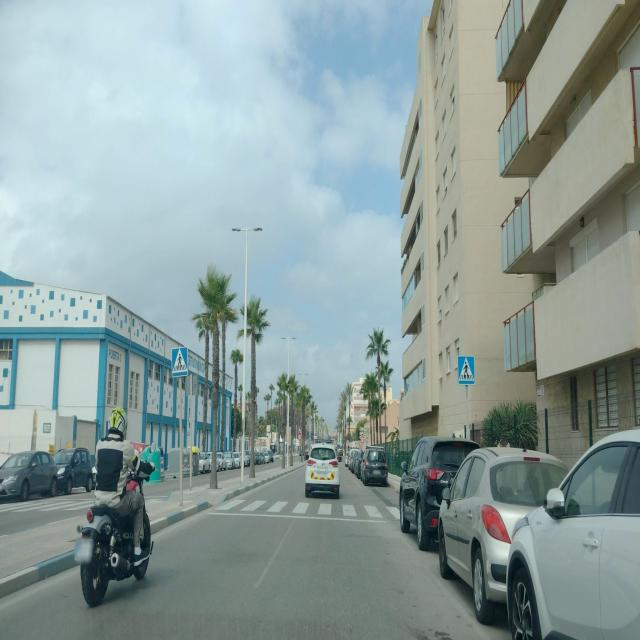bike: (78, 452, 154, 609)
car: (505, 423, 640, 638), (437, 444, 570, 623), (398, 435, 479, 551), (0, 449, 57, 502), (52, 446, 96, 495), (304, 442, 340, 498), (361, 445, 389, 487), (198, 450, 214, 473), (356, 451, 366, 478), (349, 450, 361, 472), (223, 450, 235, 470), (215, 450, 226, 470), (230, 450, 242, 468), (344, 448, 353, 468), (264, 447, 274, 462), (242, 450, 251, 466), (254, 450, 264, 464)
